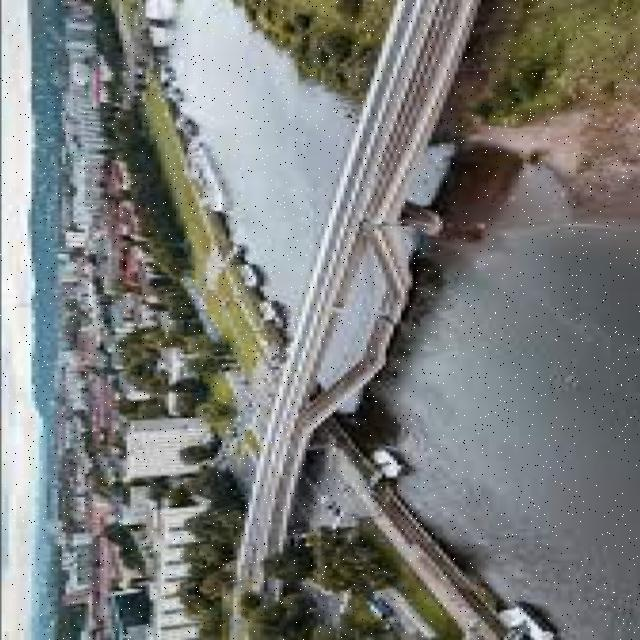bridge collapse: (160, 96, 544, 504)
